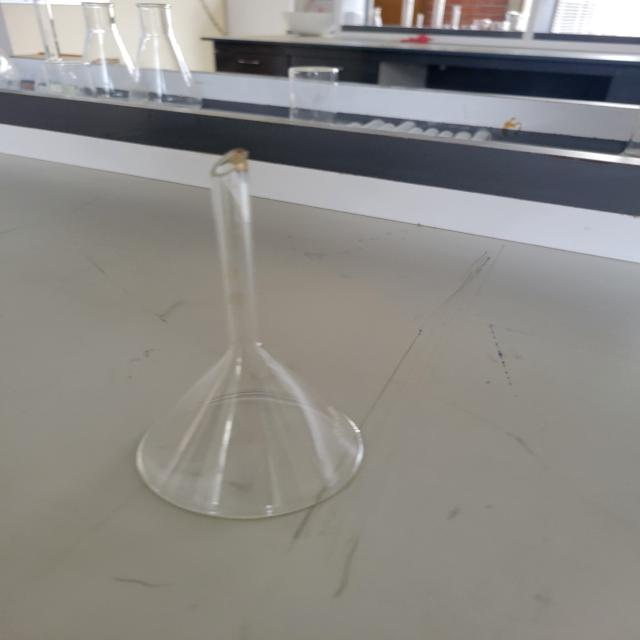Funnel: (98, 86, 414, 539)
